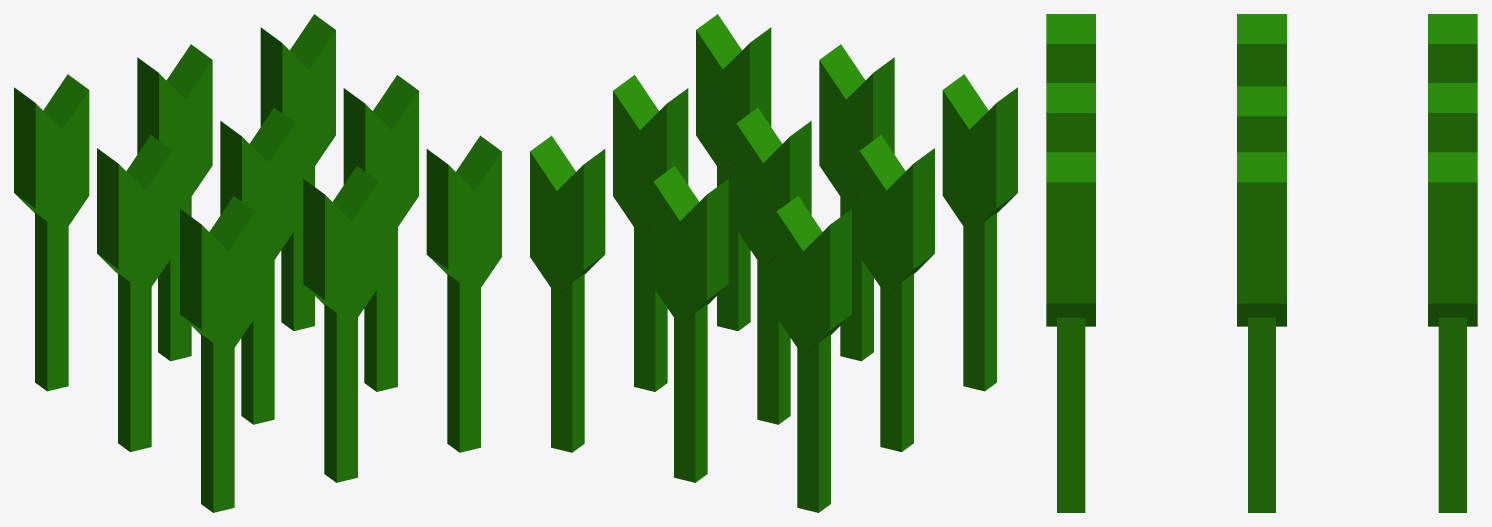
File: Wheat_Green (7).fbx
3 renders of one model, left to right at view 1: azimuth 30°, elevation 25°; view 2: azimuth 150°, elevation 25°; view 3: azimuth 270°, elevation 25°, orthographic. The views are drawn at different scales.
Parts seen in each view (by area): view 1: Cube; view 2: Cube; view 3: Cube.
Part boxes in pixels (box(x1,y1,x2,y2)): Cube: box(14, 14, 501, 512); Cube: box(530, 14, 1017, 512); Cube: box(1046, 14, 1477, 512).
Size of the model in its own units: 146 by 139 by 158.
